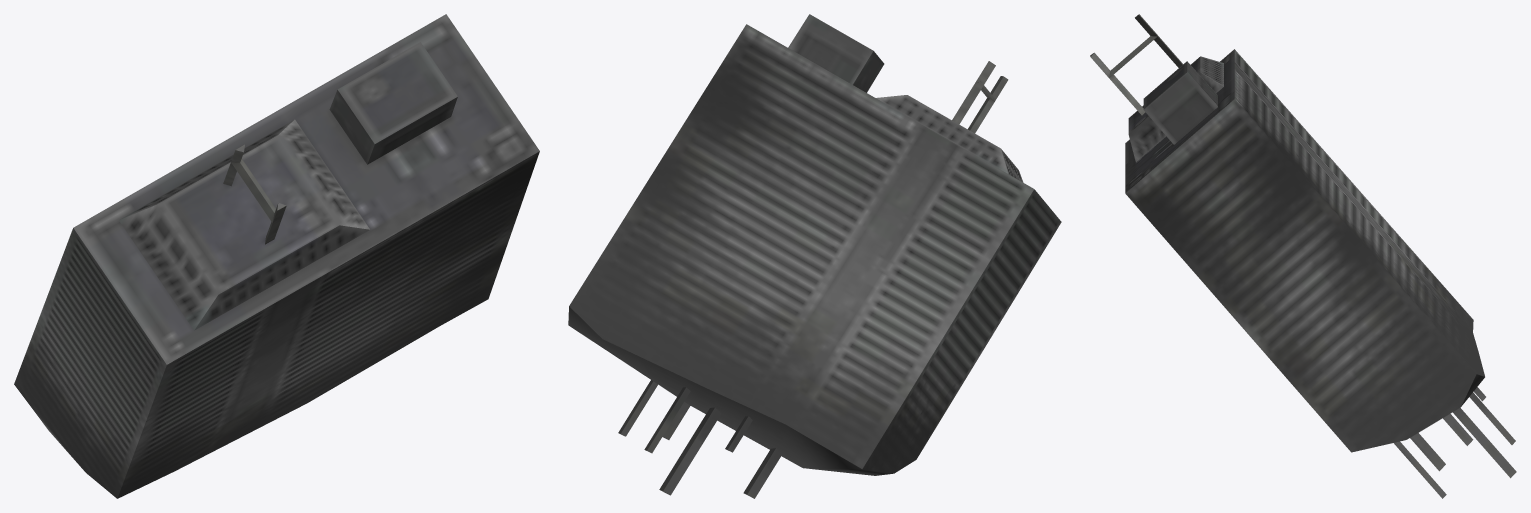
File: skyBuildingAAC_pos_grp (30).fbx
The picture shows the model from 3 angles, left to right: view 1: azimuth 30°, elevation 25°; view 2: azimuth 150°, elevation 25°; view 3: azimuth 270°, elevation 25°; orthographic projection. The views are drawn at different scales.
Parts seen in each view (by area): view 1: skyBuildingAAC_geo; view 2: skyBuildingAAC_geo; view 3: skyBuildingAAC_geo.
Part boxes in pixels (box(x1,y1,x2,y2)): skyBuildingAAC_geo: box(14, 14, 539, 498); skyBuildingAAC_geo: box(568, 14, 1061, 498); skyBuildingAAC_geo: box(1090, 14, 1516, 498).
Bounding box in the file's own units: 6.65 × 6.36 × 5.99.
